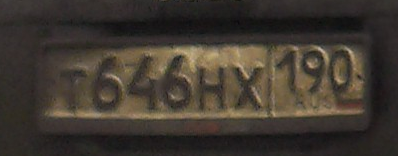character: (88, 51, 125, 113), (126, 50, 160, 114), (161, 50, 195, 113), (228, 61, 266, 115), (57, 63, 88, 116), (196, 63, 228, 114), (300, 44, 329, 97), (329, 44, 356, 98), (277, 46, 300, 96)
